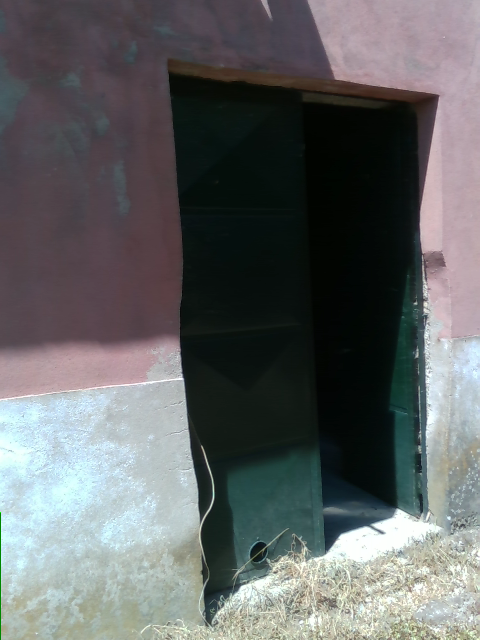open: (165, 61, 449, 597)
